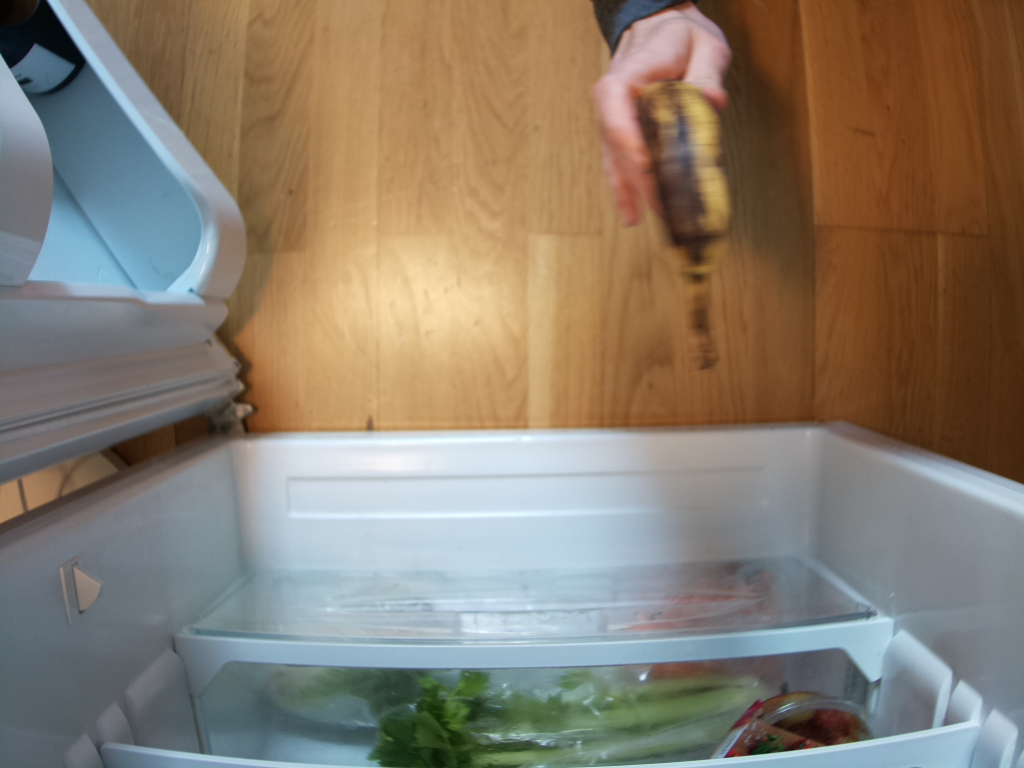banana-overripe: (640, 82, 726, 375)
